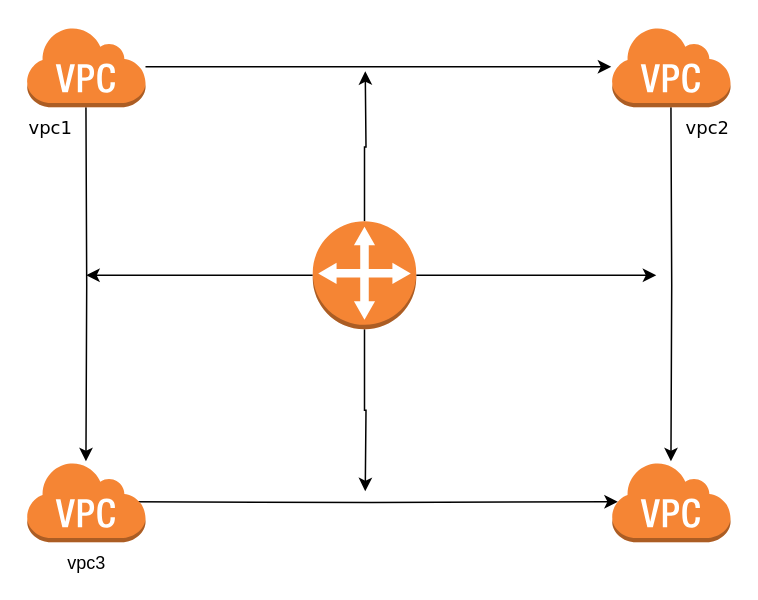
Some shapes in this 758 by 600 pixel diagram are drawn without their labels. The centre of each missing label's shape, as x and y in pixels:
"TRANSIST GATE WAY" goes at point (363, 274).
"VPCN" goes at point (670, 501).
